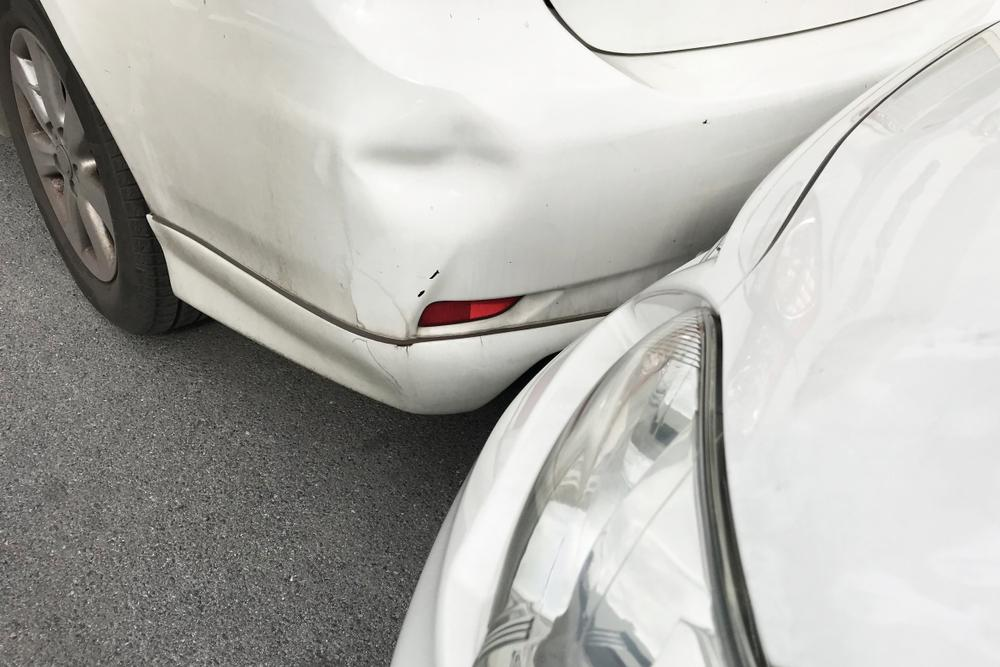dent: (352, 100, 524, 236)
